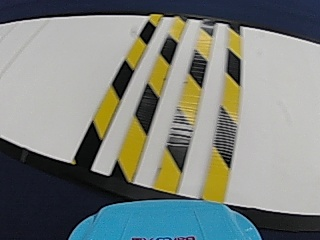bump: (76, 23, 254, 185)
